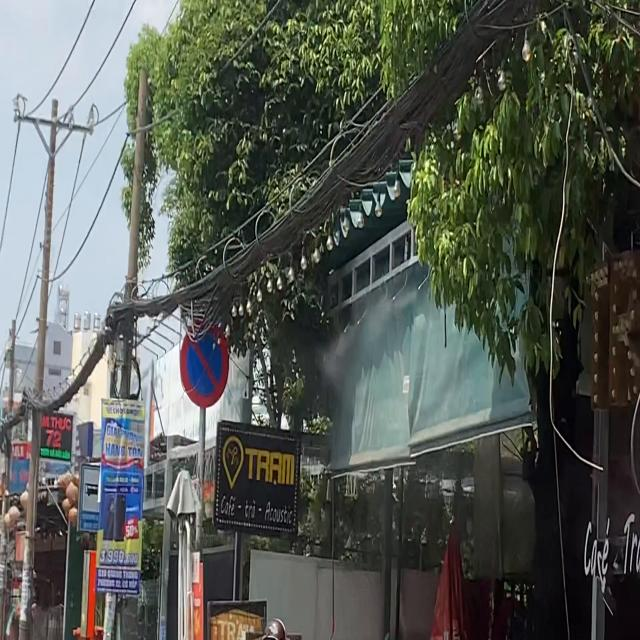Cam do: (180, 328, 229, 407)
